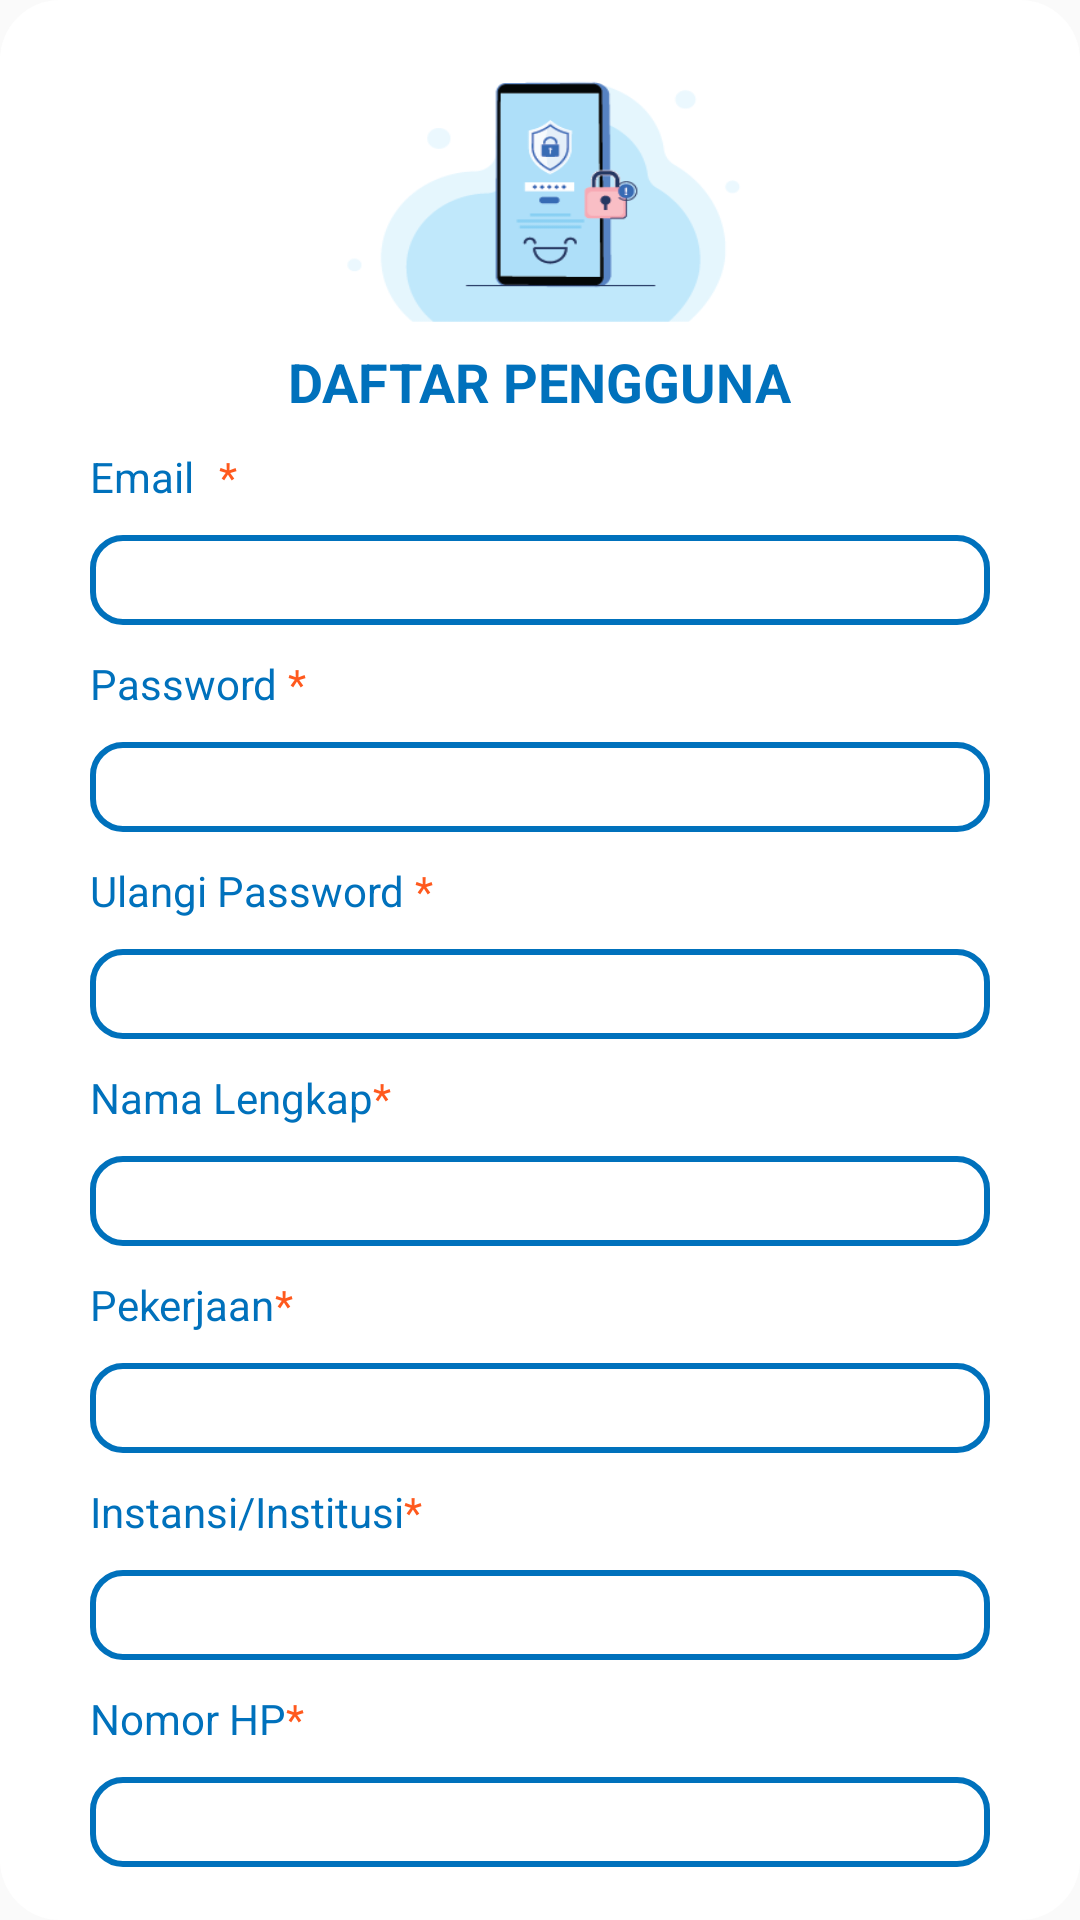

Point at icon controls on the screen. Image size 1080x1920, points as point (x, y).
login illustration: point (553, 202)
